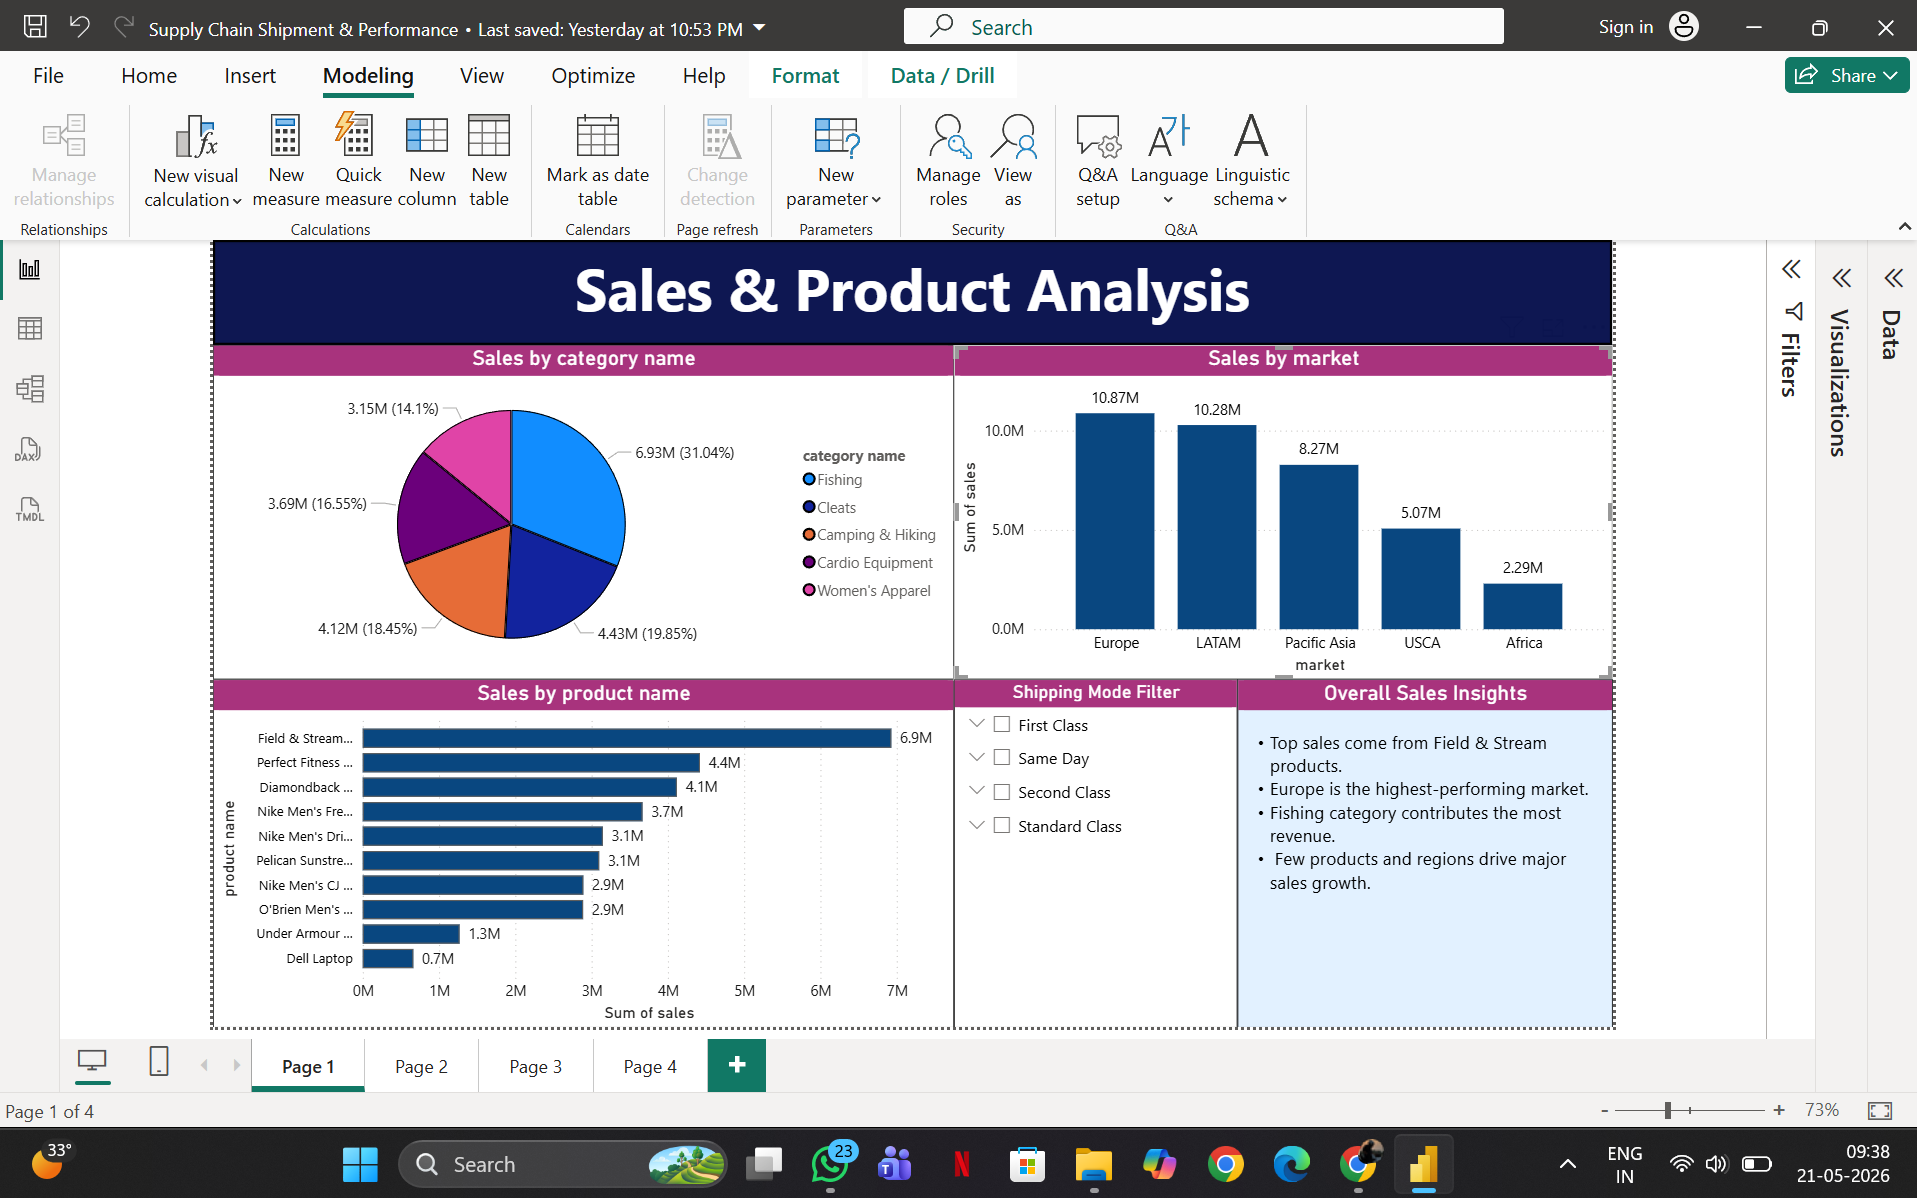

The page's visual inventory and layout, read from the dashboard file:
{"tool":"powerbi","page":{"name":"Page 1","canvas":[1280,720],"ordinal":0},"visuals":[{"type":"barChart","title":"Sales by product name","fields":{"Y":["Sum(cleaned_supply_chain.sales)"],"Category":["cleaned_supply_chain.product name"]},"box":[0,402.1,677.9,318.4],"z":0},{"type":"pieChart","title":"Sales by category name","fields":{"Y":["Sum(cleaned_supply_chain.sales)"],"Category":["cleaned_supply_chain.category name"]},"box":[0,96.1,677.9,306],"z":1000},{"type":"columnChart","title":"Sales by market","fields":{"Category":["cleaned_supply_chain.market"],"Y":["Sum(cleaned_supply_chain.sales)"]},"box":[677.9,96.1,602.5,306],"z":2000},{"type":"slicer","title":"Shipping Mode Filter","fields":{"Values":["cleaned_supply_chain.shipping mode","cleaned_supply_chain.market"]},"box":[677.9,402.1,259.4,318.4],"z":3000},{"type":"textbox","title":"Sales & Product Analysis","box":[0,0,1280,95.7],"z":4000},{"type":"textbox","title":"Overall Sales Insights","box":[937.3,402.1,343.1,318.4],"z":4001}]}

Visuals, with their boxes on the page's 1280x720 design canvas (x1, y1, x2, y2). These are canvas units, not pixel positions in the 1917x1198 screenshot, which may show the page scaled, cropped or inside an application window:
"Sales by product name" barChart: x1=0, y1=402, x2=678, y2=720
"Sales by category name" pieChart: x1=0, y1=96, x2=678, y2=402
"Sales by market" columnChart: x1=678, y1=96, x2=1280, y2=402
"Shipping Mode Filter" slicer: x1=678, y1=402, x2=937, y2=720
"Sales & Product Analysis" textbox: x1=0, y1=0, x2=1280, y2=96
"Overall Sales Insights" textbox: x1=937, y1=402, x2=1280, y2=720
